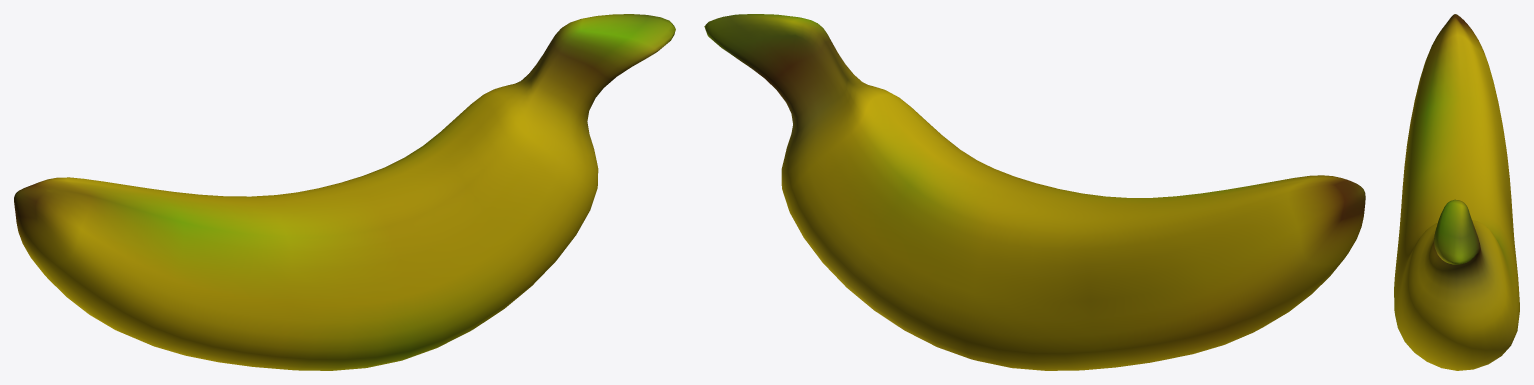
The model's file is banana_whole.fbx.
3 views of the same model, side by side, from view 1: azimuth 30°, elevation 25°; view 2: azimuth 150°, elevation 25°; view 3: azimuth 270°, elevation 25° (orthographic). The views are drawn at different scales.
Visible parts, largest first — view 1: Cube; view 2: Cube; view 3: Cube.
Boxes of the visible parts, x1,y1,x2,y2 form: Cube: [14, 14, 675, 370]; Cube: [704, 14, 1365, 370]; Cube: [1394, 14, 1519, 370].
Size of the model in its own units: 1201 by 495 by 253.
